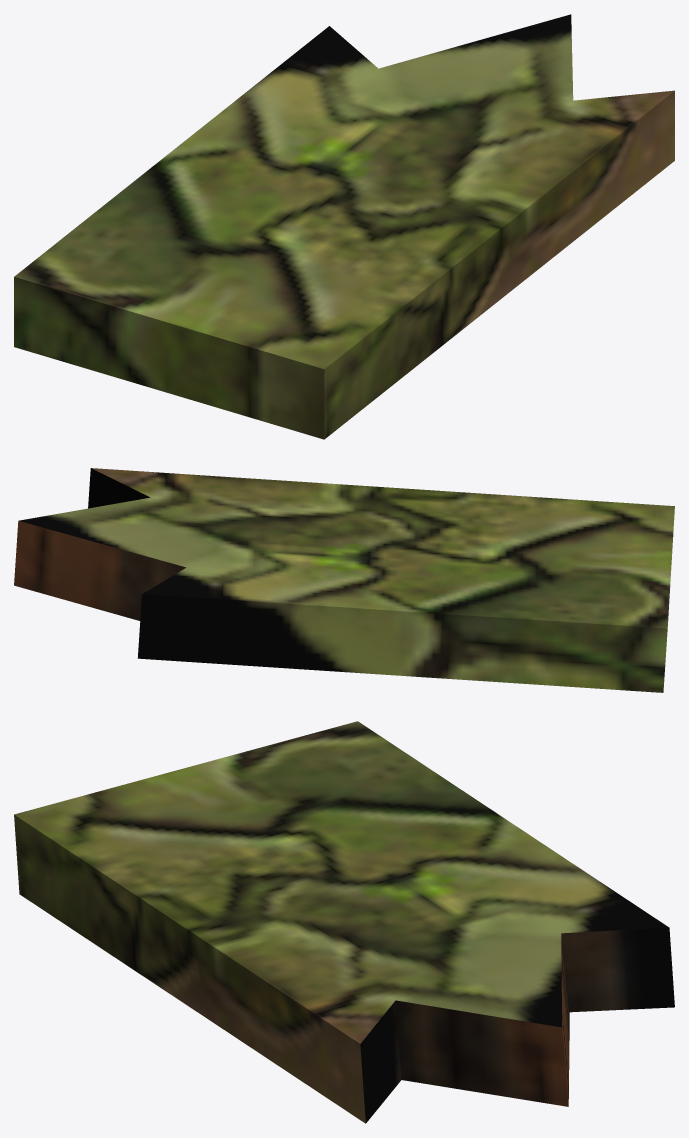
The model's file is duojin_mu03.FBX.
3 renders of one model, top to bottom at view 1: azimuth 30°, elevation 25°; view 2: azimuth 150°, elevation 25°; view 3: azimuth 270°, elevation 25°, orthographic. The views are drawn at different scales.
Parts seen in each view (by area): view 1: muban_03; view 2: muban_03; view 3: muban_03.
Boxes of the visible parts, left/top/right/bottom form: muban_03: left=14, top=14, right=674, bottom=439; muban_03: left=14, top=468, right=674, bottom=692; muban_03: left=14, top=721, right=674, bottom=1123.
Bounding box in the file's own units: 68.97 × 11.88 × 55.08.
